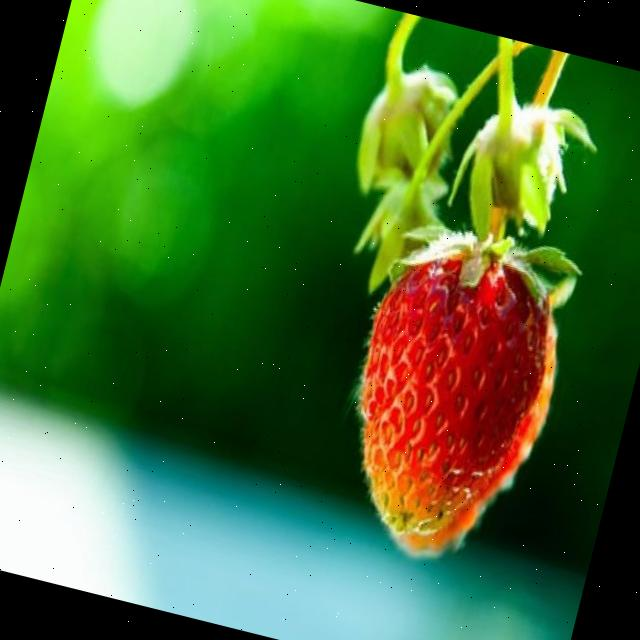strawberry: (323, 233, 568, 557)
